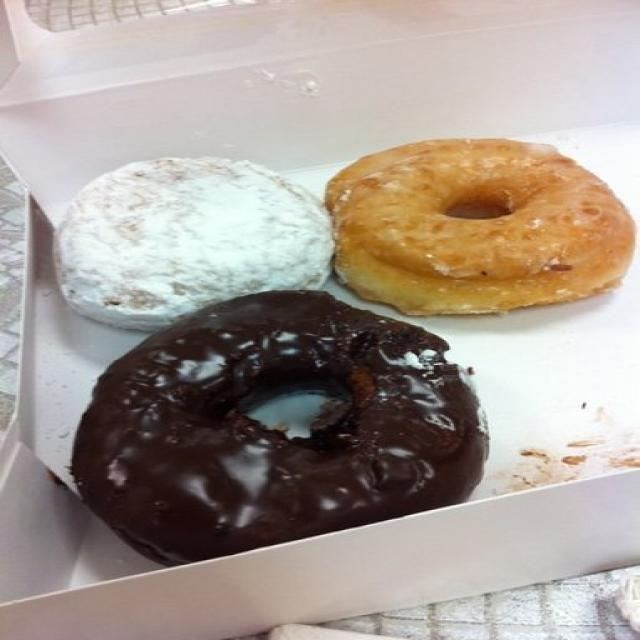Donuts: (42, 145, 637, 564)
